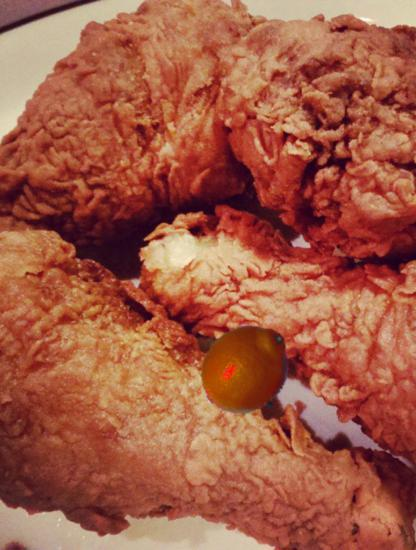Tangelo: (199, 322, 297, 420)
